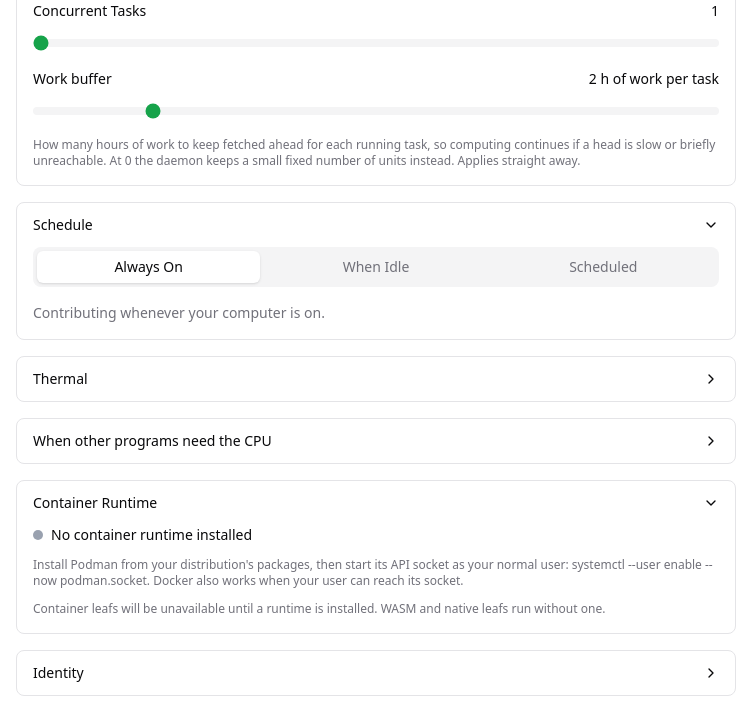
Scenario: SettingsPage › greys the yield section when the load cannot be measured here
The width and height of the screenshot is (753, 703).
(page scrolled)
Click the button "When other programs need the CPU" at (152, 440), box x1=17 y1=419 x2=735 y2=463
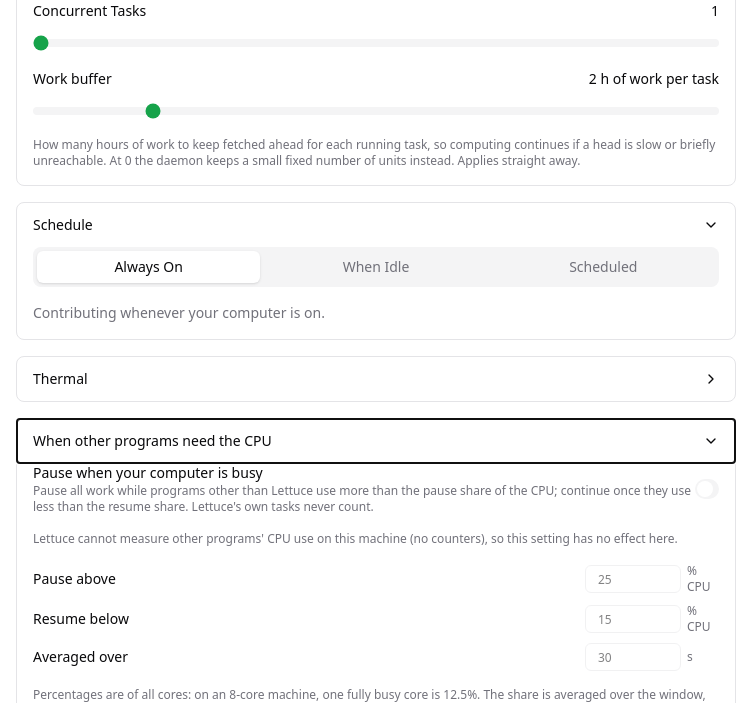
Now the text with test id "yield-unmeasurable" shows "cannot measure other programs' CPU use", box x1=33 y1=530 x2=407 y2=547
Now the text with test id "yield-unmeasurable" shows "no counters", box x1=407 y1=530 x2=485 y2=547
Now the number field labelled "Pause above" is disabled, box x1=585 y1=565 x2=681 y2=593
